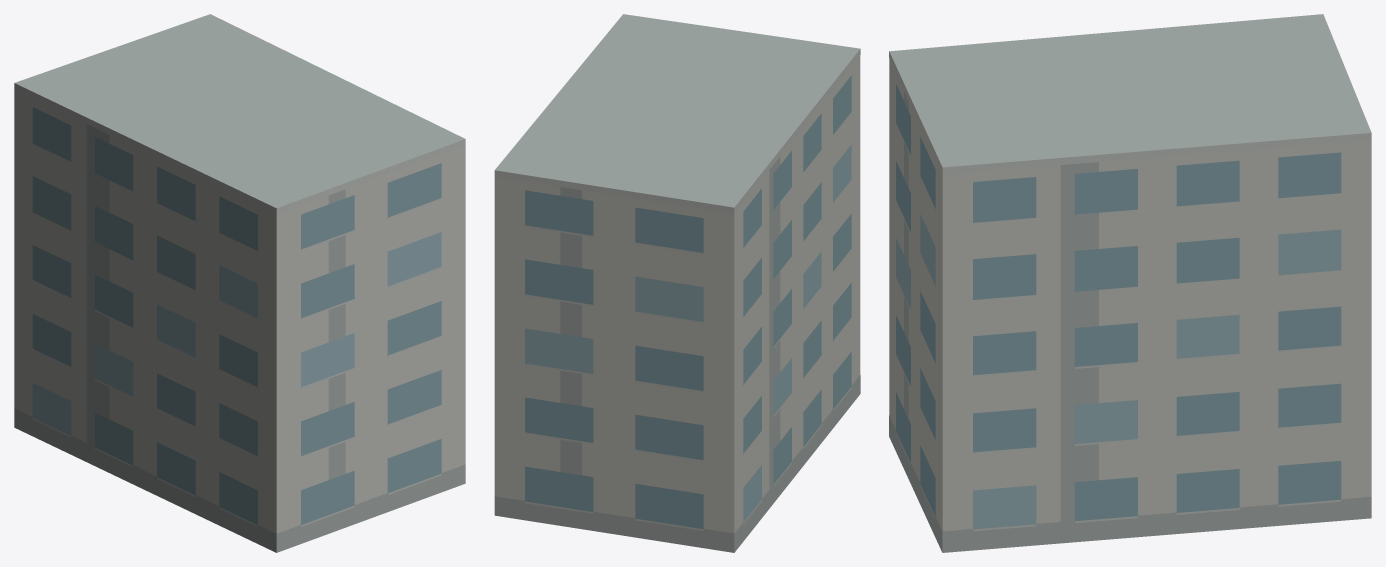
File: survey-upis-32947931.glb
3 renders of one model, left to right at view 1: azimuth 30°, elevation 25°; view 2: azimuth 150°, elevation 25°; view 3: azimuth 270°, elevation 25°, orthographic. The views are drawn at different scales.
Visible parts, largest first — view 1: survey-upis-32947931.tmp; view 2: survey-upis-32947931.tmp; view 3: survey-upis-32947931.tmp.
Part boxes in pixels (left/top/right/bottom): survey-upis-32947931.tmp: left=14, top=14, right=465, bottom=552; survey-upis-32947931.tmp: left=494, top=14, right=860, bottom=552; survey-upis-32947931.tmp: left=889, top=14, right=1371, bottom=552.
Bounding box in the file's own units: 11.19 × 13.1 × 14.87.
